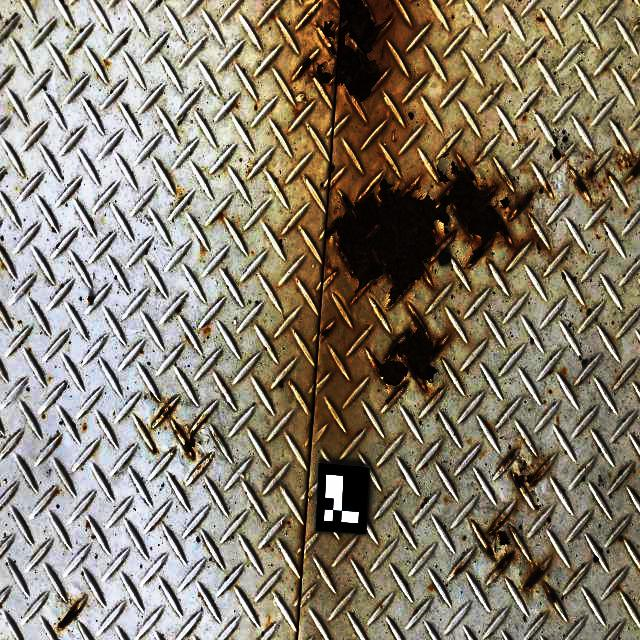Corrosion: (329, 157, 513, 304), (366, 311, 449, 390), (336, 0, 385, 100), (512, 470, 542, 491), (488, 518, 510, 546), (522, 565, 548, 588), (384, 382, 408, 406), (58, 605, 82, 629), (477, 527, 494, 559), (515, 191, 534, 217), (183, 429, 197, 461), (495, 551, 515, 571), (296, 57, 314, 77), (542, 585, 557, 609), (322, 20, 336, 39), (439, 229, 455, 245), (316, 64, 330, 82), (156, 406, 171, 420), (502, 451, 516, 466), (627, 162, 640, 178), (499, 196, 512, 210), (326, 44, 338, 59), (575, 178, 586, 194), (174, 422, 184, 437), (319, 328, 330, 337), (586, 169, 595, 178), (519, 461, 527, 471), (455, 568, 462, 575), (443, 226, 449, 234), (546, 183, 550, 194), (628, 162, 634, 169), (153, 447, 157, 454), (607, 171, 611, 176)
